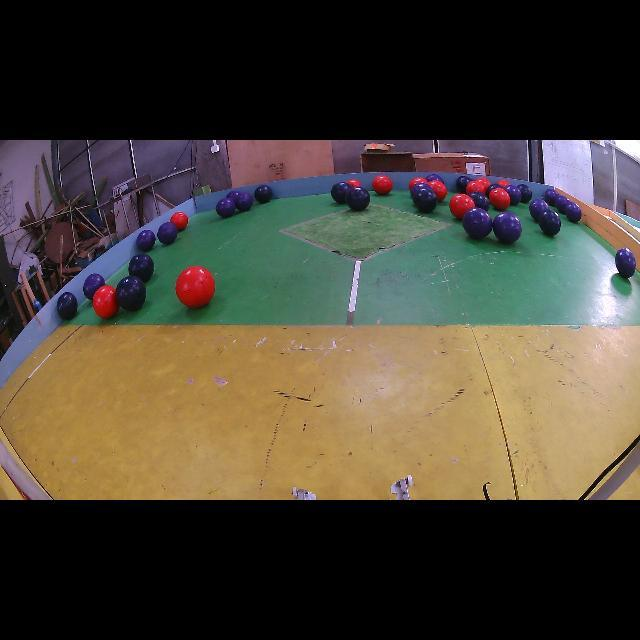B: (116, 275, 146, 311), (411, 184, 438, 212), (129, 254, 154, 282), (345, 186, 370, 211), (539, 210, 561, 236), (58, 292, 78, 320), (331, 183, 351, 204), (470, 191, 490, 211), (255, 185, 272, 204), (518, 184, 532, 204), (456, 176, 471, 194), (486, 184, 502, 198)
P: (492, 211, 521, 244), (462, 208, 492, 239), (615, 248, 636, 278), (82, 274, 105, 300), (158, 222, 178, 245), (529, 199, 549, 221), (136, 230, 156, 251), (232, 192, 254, 211), (216, 198, 236, 218), (565, 201, 581, 222), (504, 185, 521, 204), (555, 195, 570, 214), (542, 189, 558, 206), (426, 174, 444, 183), (226, 190, 239, 201)
R: (175, 266, 215, 308), (92, 285, 120, 319), (450, 194, 475, 220), (489, 189, 510, 210), (372, 175, 392, 195), (429, 180, 448, 201), (466, 178, 490, 194), (170, 211, 188, 231), (466, 180, 486, 194), (409, 178, 428, 189), (496, 180, 510, 187), (346, 180, 361, 186)
